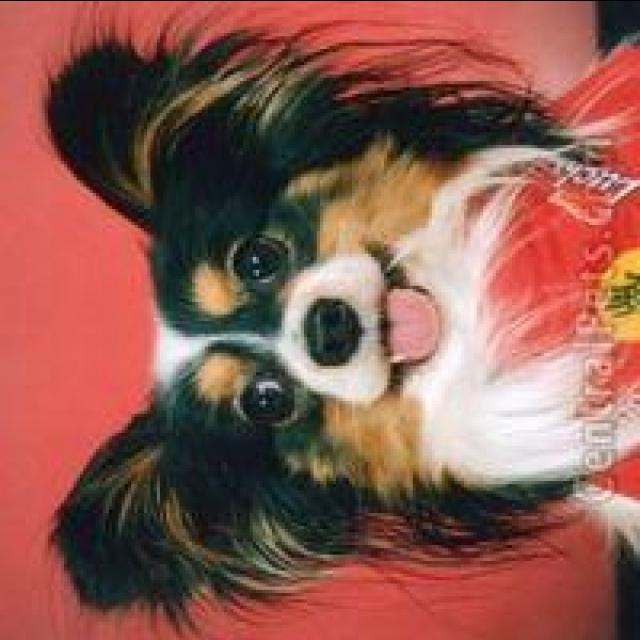papillon: (41, 12, 636, 634)
